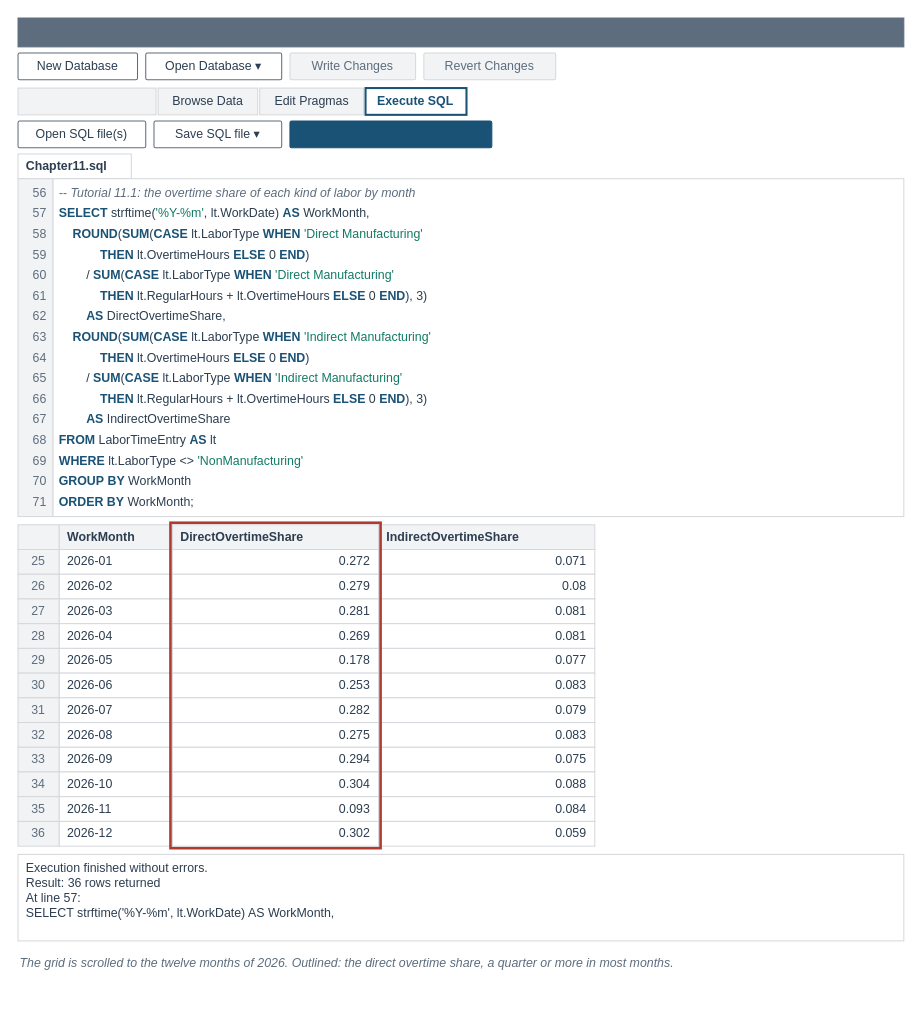
Image size: 922x1010. Some labels were removed from this diagram. Each missing label, with the box of its shape:
Database Structure: (17, 87, 156, 115)
DB Browser for SQLite - C:\Users\you\Documents\CharlesRiver_Work.sqlite: (17, 17, 904, 47)
▶ Execute all/selected SQL: (289, 120, 492, 148)
